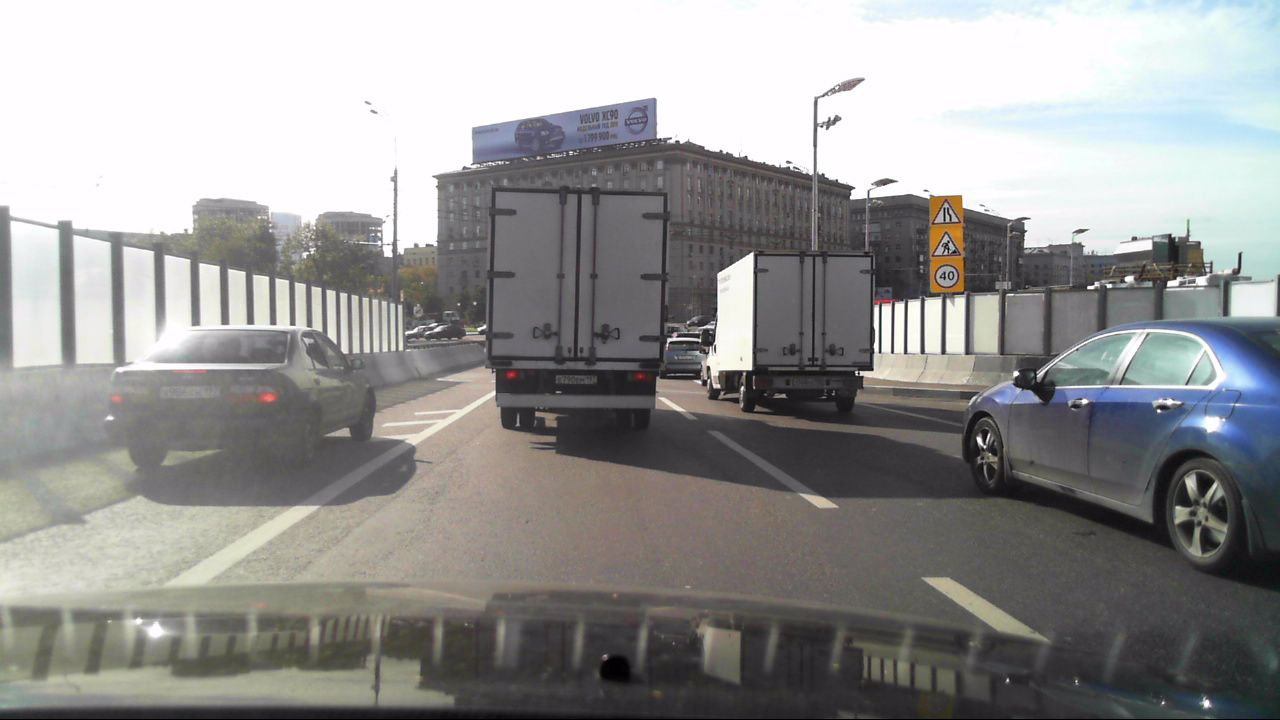speed_warning_40: (929, 257, 961, 292)
